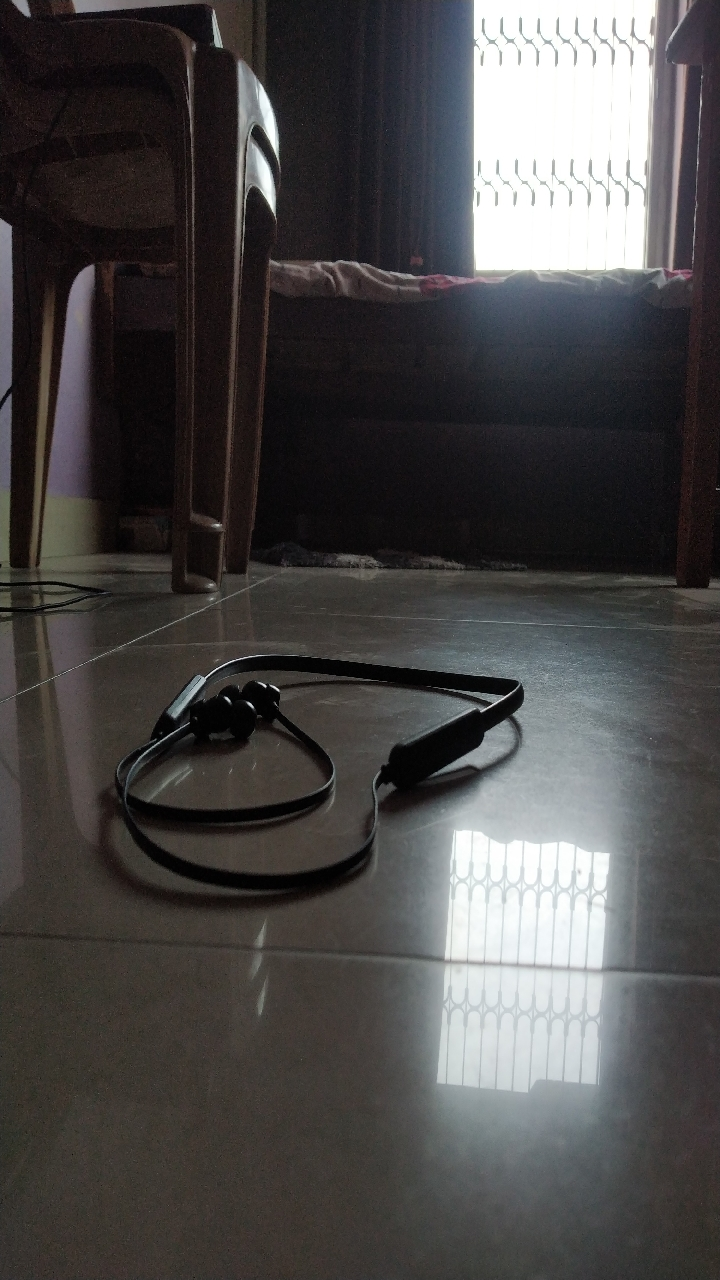Furnitures: (1, 166, 300, 598)
cables: (98, 630, 529, 918), (1, 574, 108, 629)
